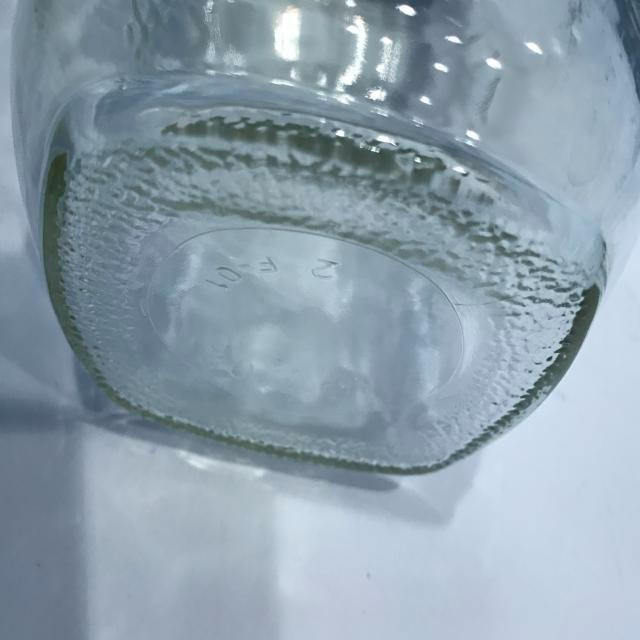glass: (0, 0, 640, 484)
